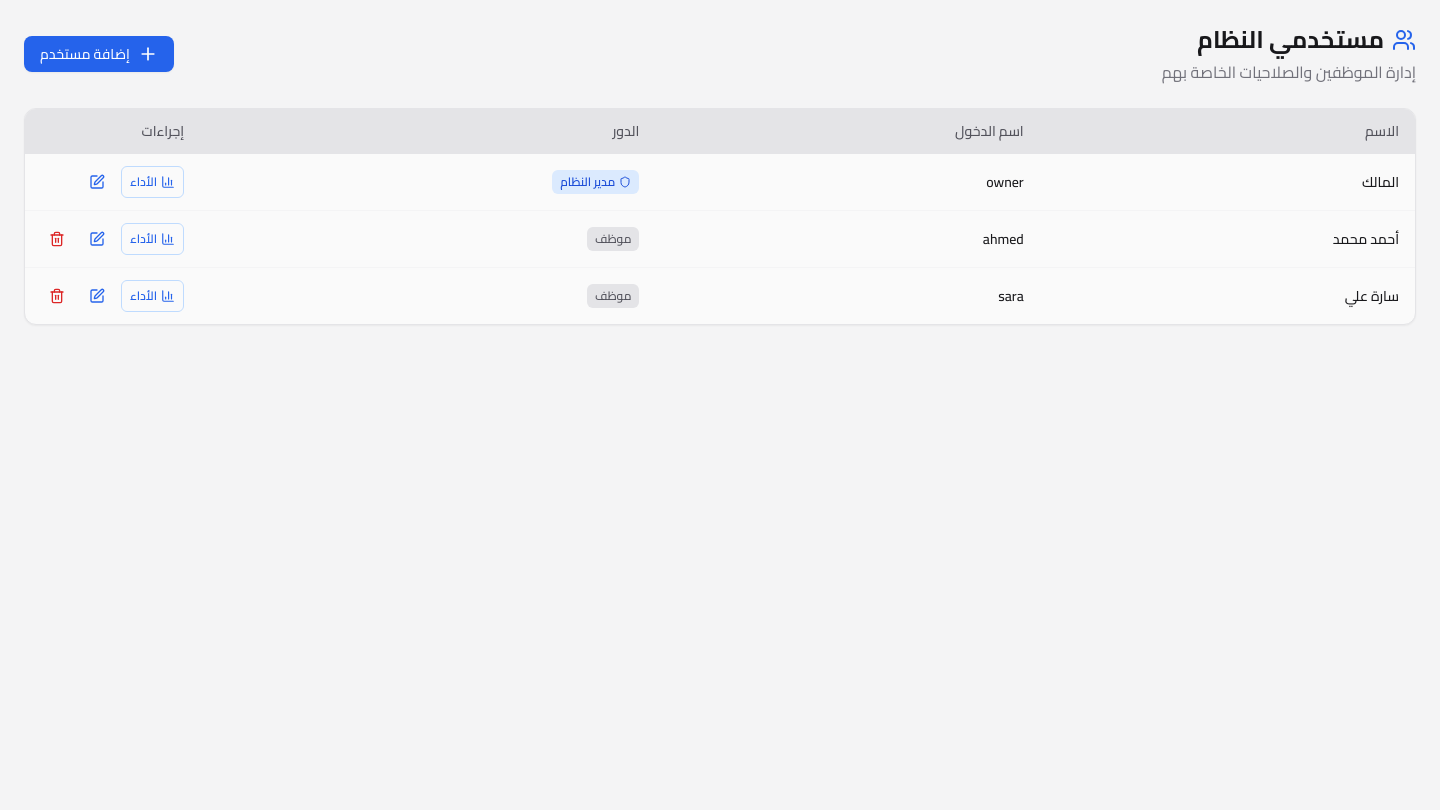
Test: UsersPage — TC-COMP-USERS › TC-COMP-USERS-002 — add-user form shows the branch Select when there are 2+ active branches
Click the button "إضافة مستخدم": click(99, 54) x1=24 y1=36 x2=174 y2=72
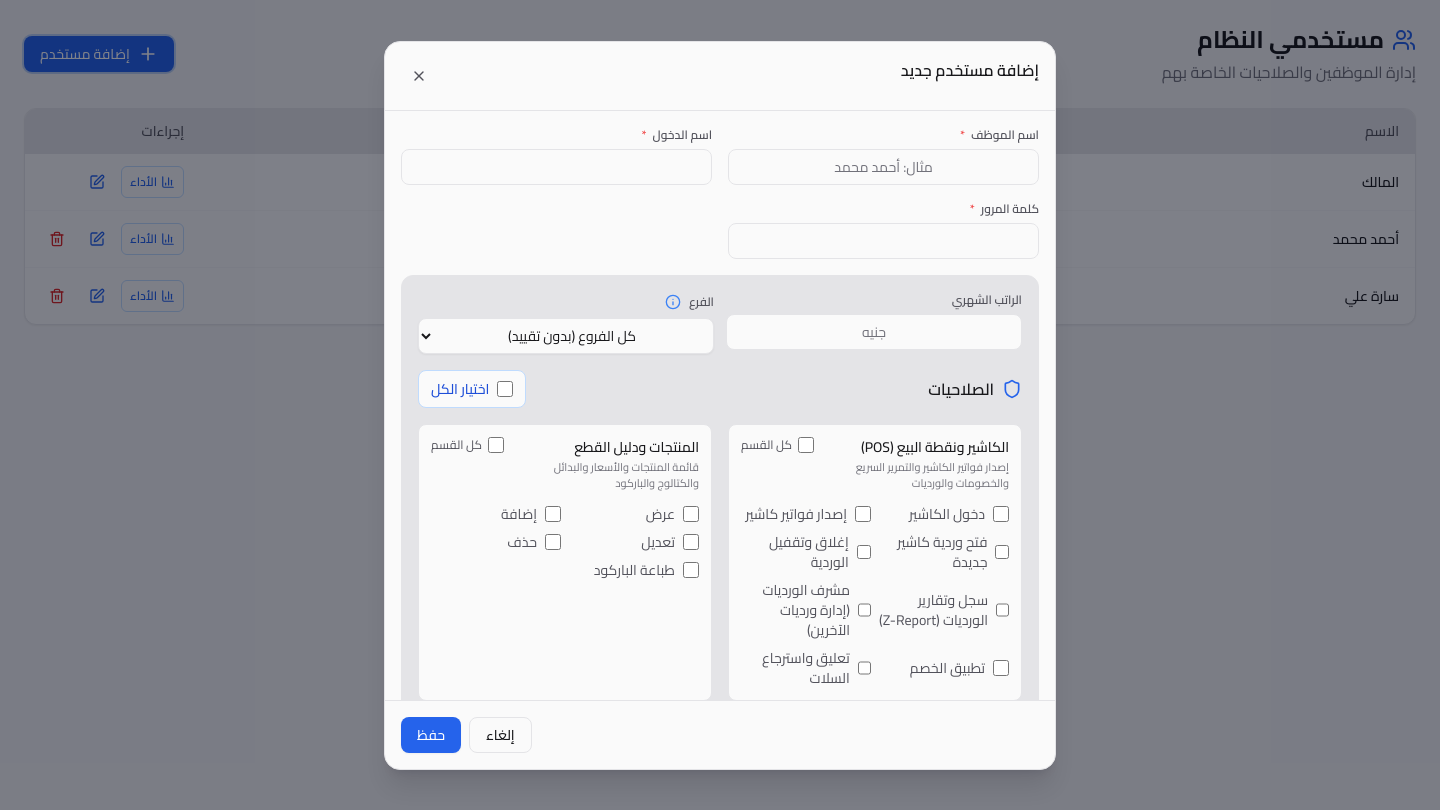
Check: the text "الفرع" is shown, box x1=689 y1=294 x2=714 y2=310
